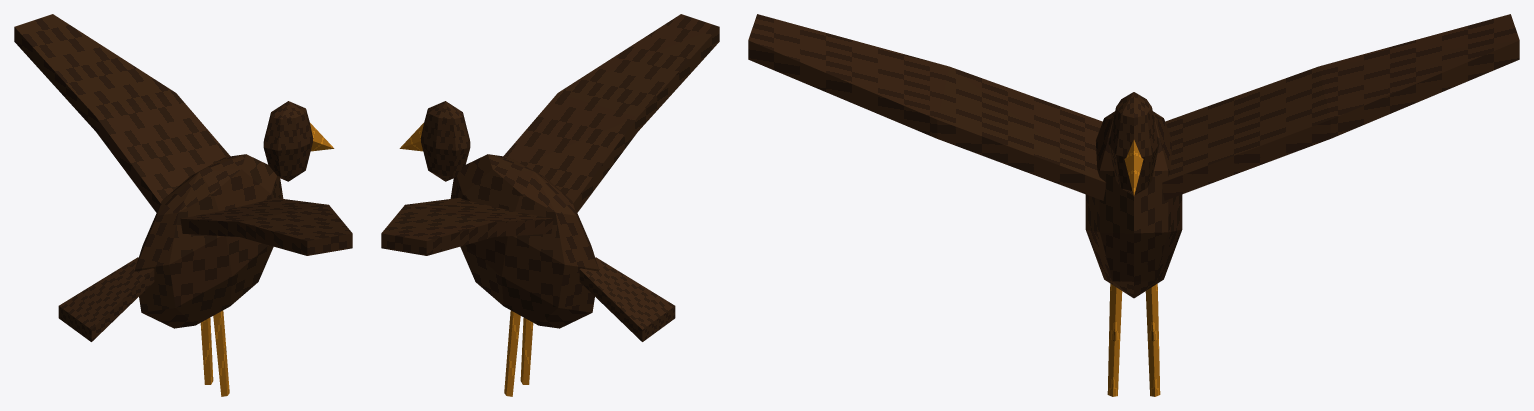
File: halcon.glb
3 views of the same model, side by side, from view 1: azimuth 30°, elevation 25°; view 2: azimuth 150°, elevation 25°; view 3: azimuth 270°, elevation 25° (orthographic). The views are drawn at different scales.
Visible parts, largest first — view 1: ala_izq, cuerpo, ala_der, cola, cabeza, patas, pico; view 2: ala_der, cuerpo, ala_izq, cola, cabeza, patas, pico; view 3: ala_der, ala_izq, cuerpo, cabeza, patas.
Part boxes in pixels (x1,y1,x2,y2): ala_izq: [14, 14, 230, 212]; cuerpo: [135, 154, 283, 328]; ala_der: [180, 198, 352, 255]; cola: [58, 257, 154, 341]; cabeza: [263, 101, 313, 181]; patas: [200, 310, 229, 396]; pico: [310, 123, 334, 151]; ala_der: [503, 14, 719, 212]; cuerpo: [450, 154, 598, 328]; ala_izq: [381, 198, 553, 255]; cola: [579, 257, 675, 341]; cabeza: [420, 101, 470, 181]; patas: [504, 310, 533, 396]; pico: [399, 123, 423, 151]; ala_der: [748, 14, 1105, 200]; ala_izq: [1162, 14, 1519, 200]; cuerpo: [1085, 111, 1182, 298]; cabeza: [1108, 92, 1159, 195]; patas: [1107, 283, 1160, 396].
Bounding box in the file's own units: 0.5 × 0.5 × 1.
1 material, 1 textured.
